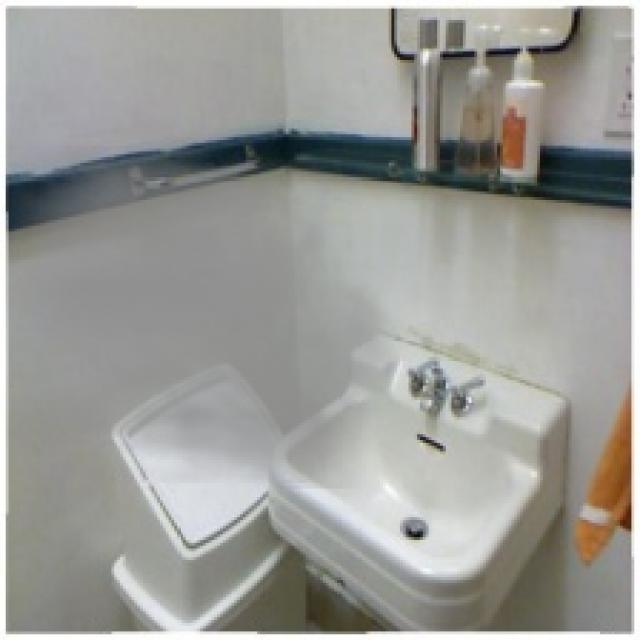smoke: (6, 146, 420, 488)
